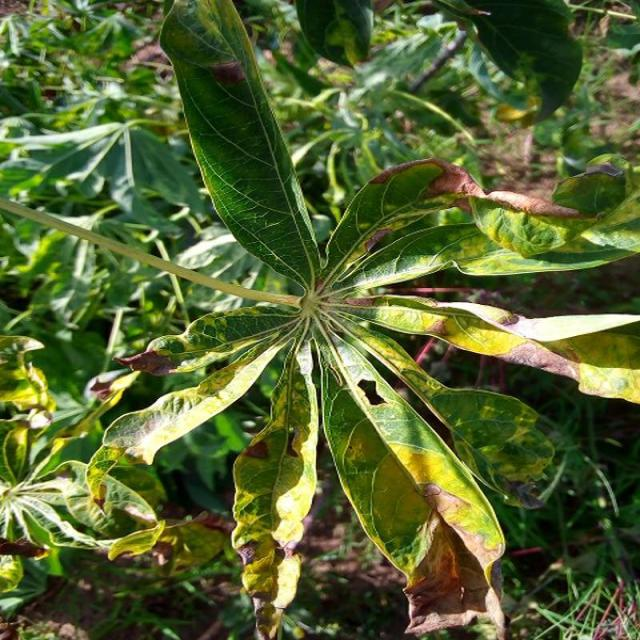cassava leaf: (87, 1, 638, 637), (157, 0, 321, 292)
